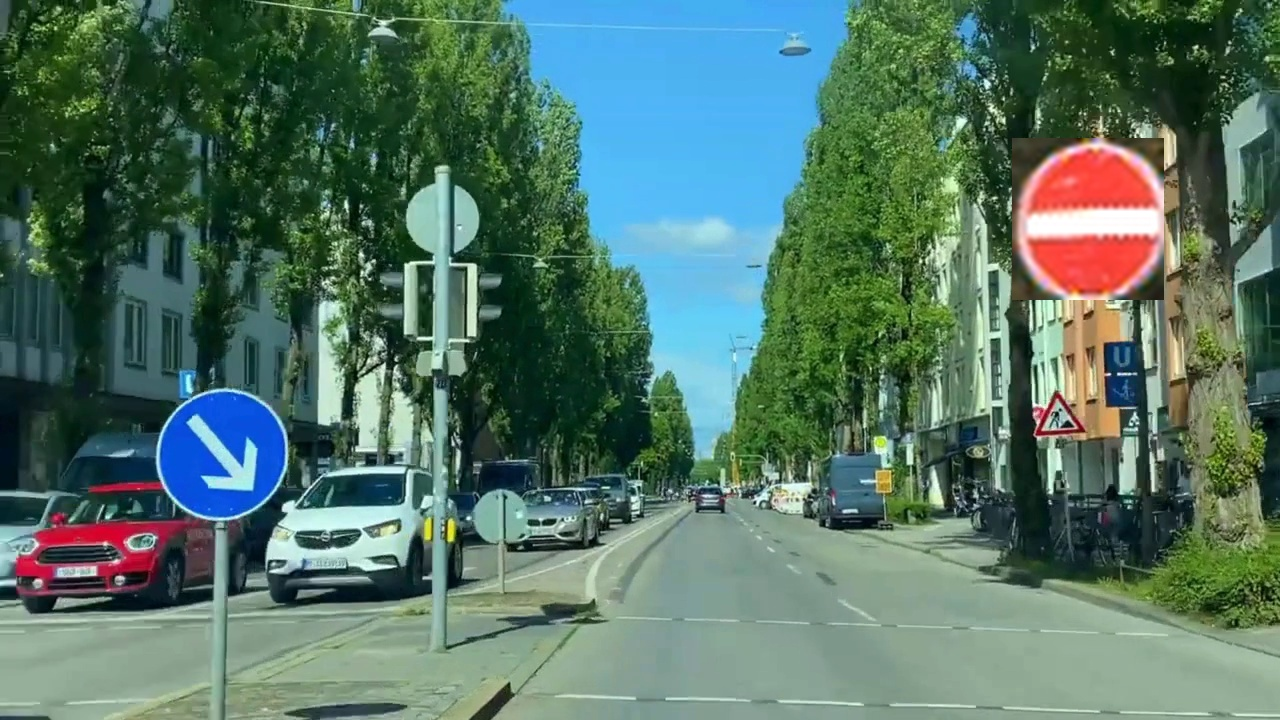No entry: (1012, 138, 1164, 300)
